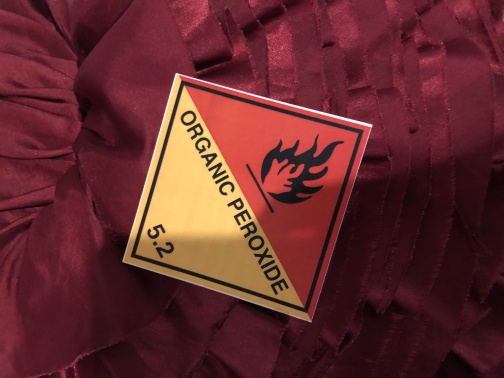OrganicPeroxide: (124, 75, 371, 321)
